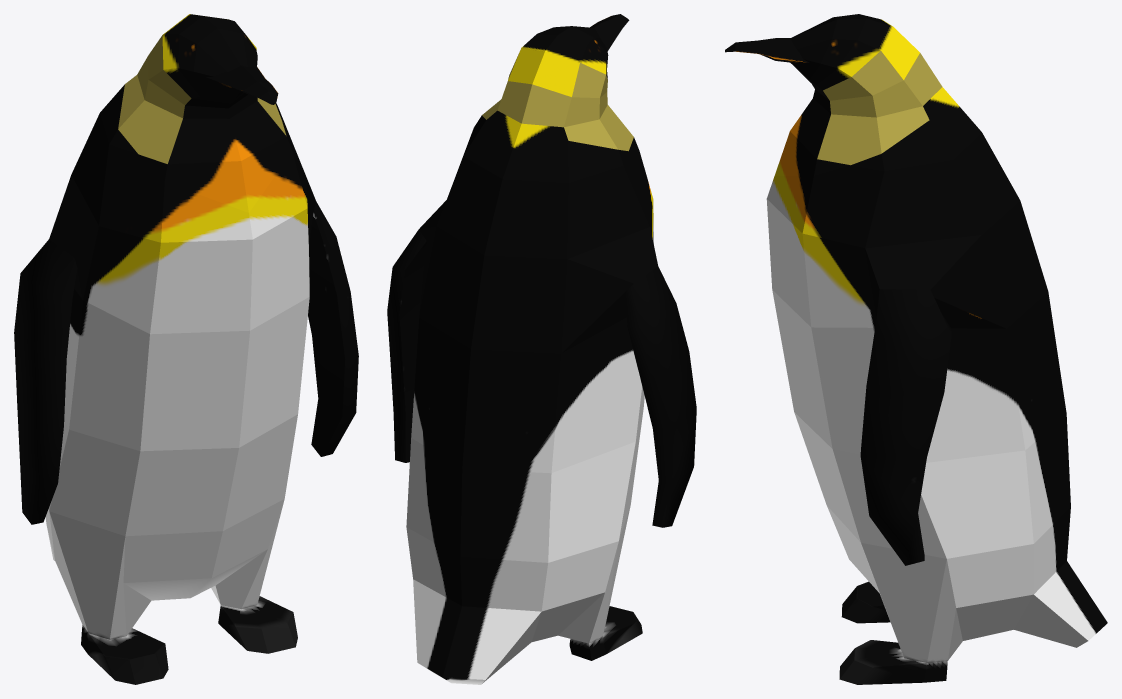
Rendered from Penguin.fbx.
3 views of the same model, side by side, from view 1: azimuth 30°, elevation 25°; view 2: azimuth 150°, elevation 25°; view 3: azimuth 270°, elevation 25° (orthographic). The views are drawn at different scales.
Visible parts, largest first — view 1: Geo_Penguin; view 2: Geo_Penguin; view 3: Geo_Penguin.
Boxes of the visible parts, left/top/right/bottom form: Geo_Penguin: left=14, top=14, right=358, bottom=684; Geo_Penguin: left=387, top=14, right=696, bottom=684; Geo_Penguin: left=725, top=14, right=1107, bottom=684.
Bounding box in the file's own units: 125 × 247 × 138.
